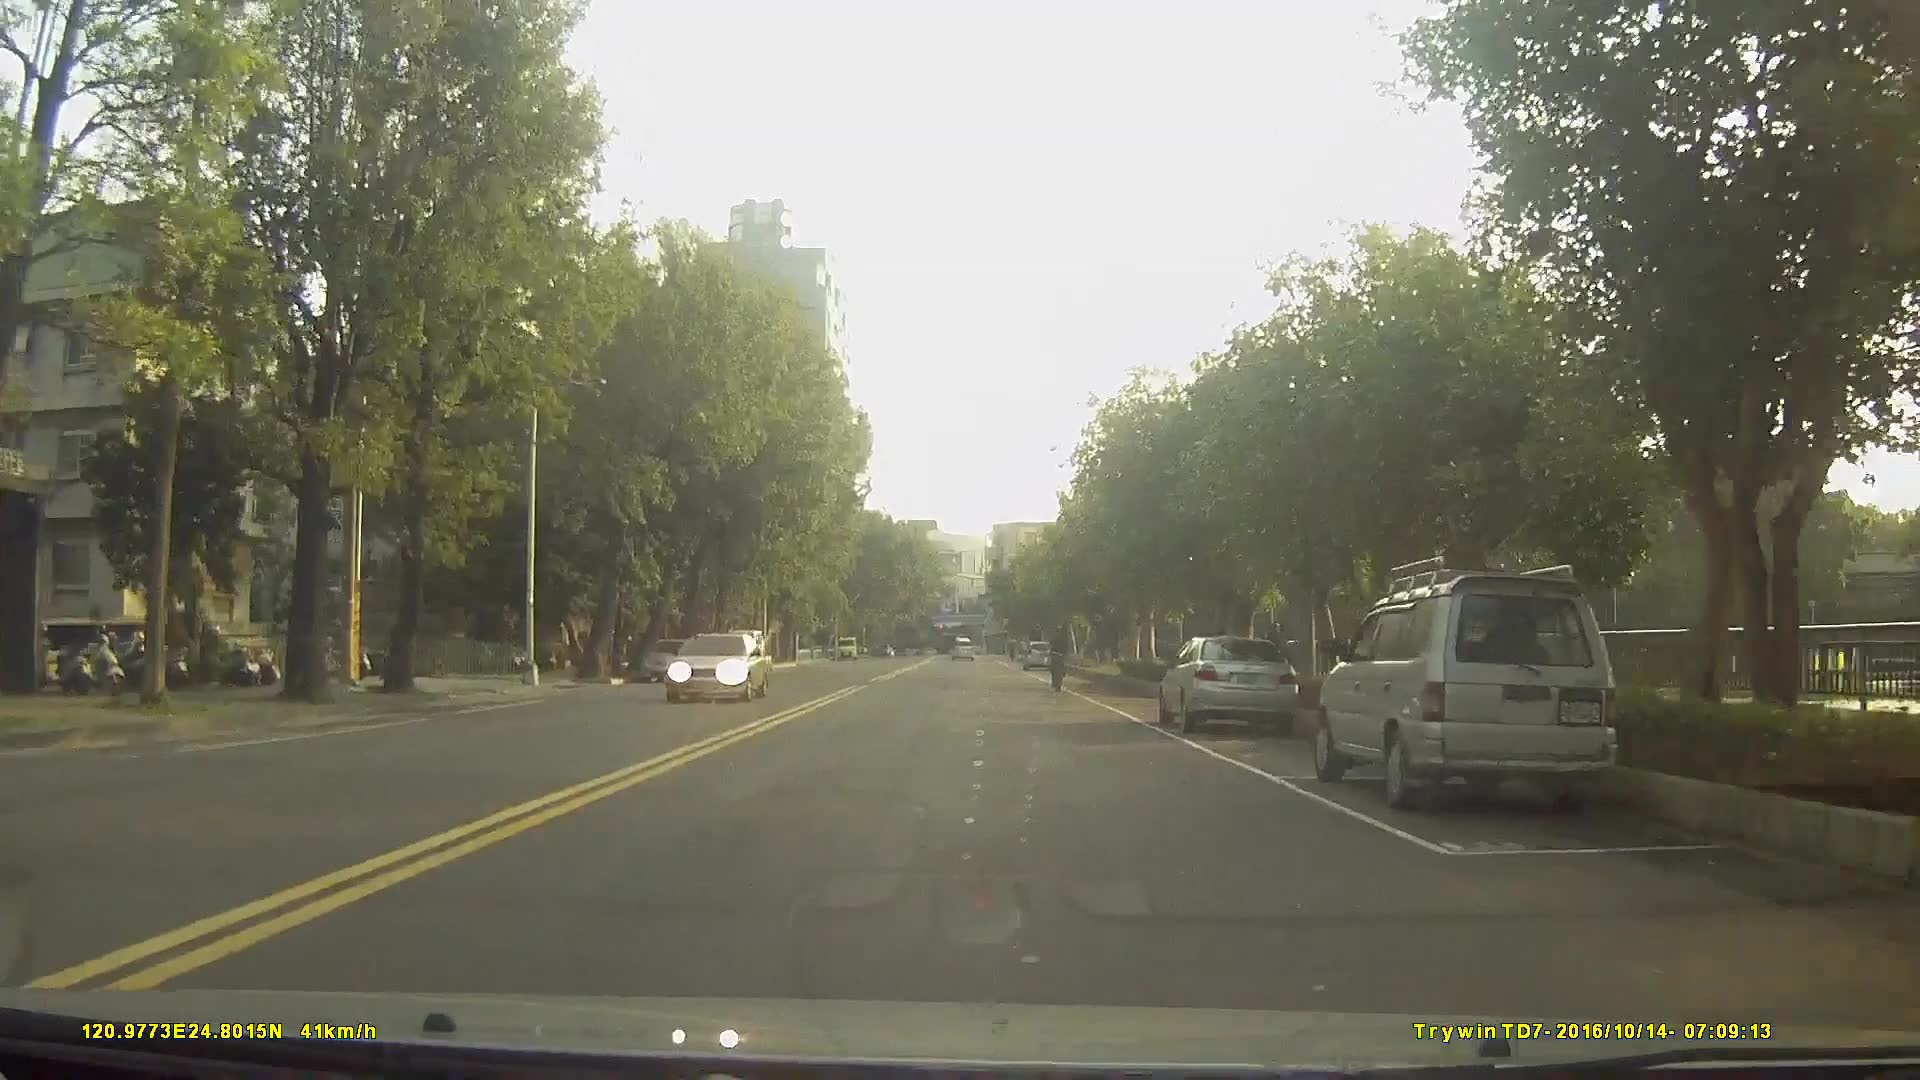rider: (1050, 622, 1073, 697)
vehicle: (1311, 569, 1621, 816), (1159, 632, 1300, 738), (661, 631, 771, 704), (639, 637, 700, 683), (717, 632, 766, 678), (1021, 638, 1056, 672), (947, 636, 975, 664)
